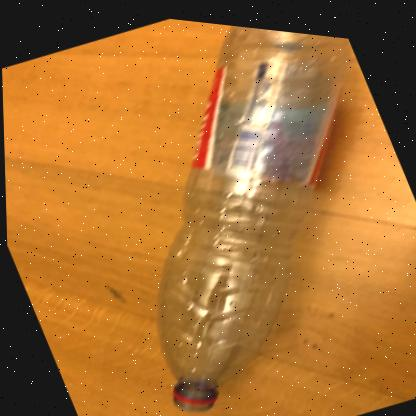Plastic: (157, 20, 349, 406)
